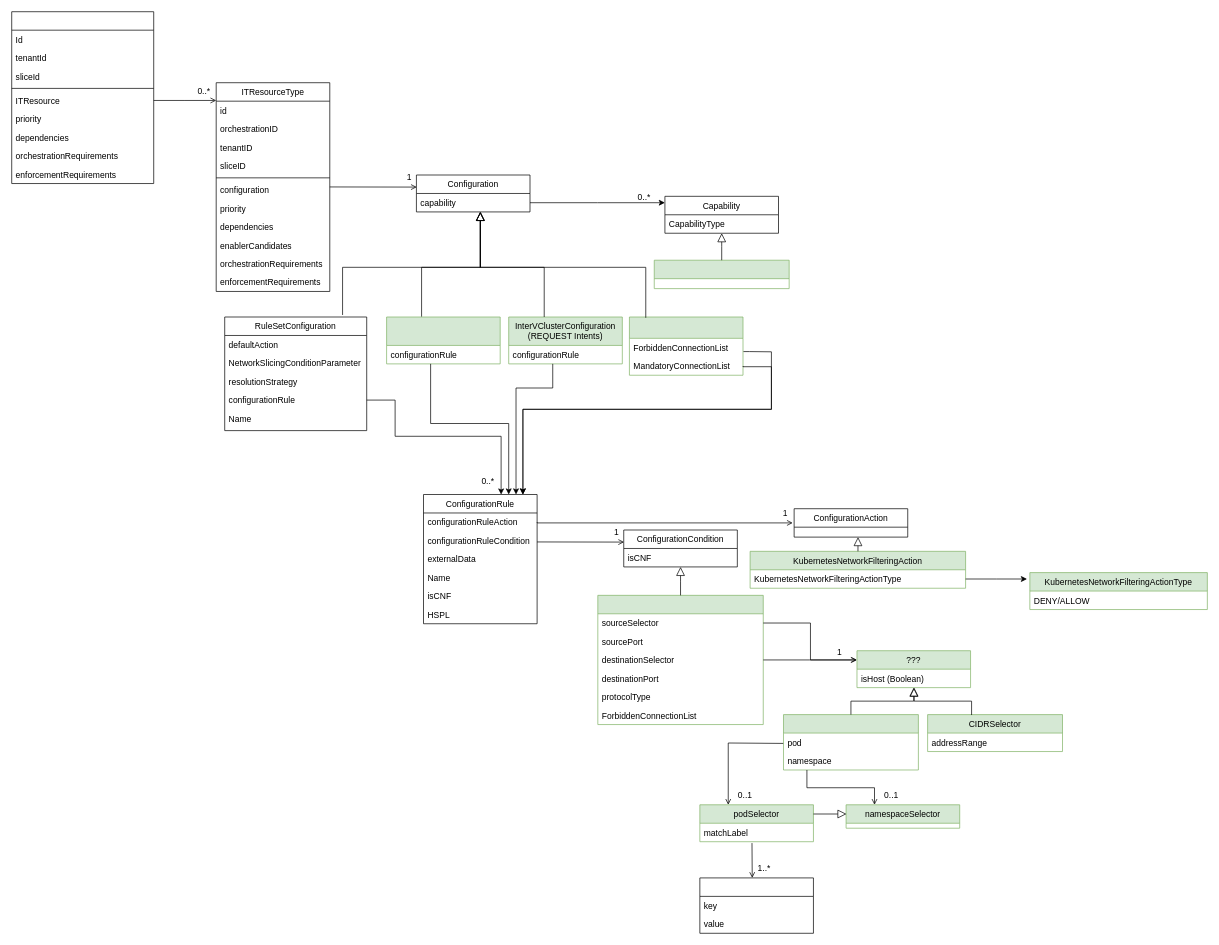
The diagram is 1219 pixels wide and 945 high, and some of its shapes have lost their labels. Each missing label, with the box of its shape:
AUTHORIZATION Intents: (629, 316, 743, 375)
IntraVClusterConfiguration (PRIVATE Intents): (386, 316, 500, 364)
ITResourceOrchestrationType: (11, 11, 154, 184)
KeyValue: (699, 877, 813, 933)
KubernetesNetworkFIltering: (654, 260, 789, 289)
KubernetesNetworkFIlteringCondition: (597, 595, 763, 725)
PodNamespaceSelector: (783, 714, 918, 770)
